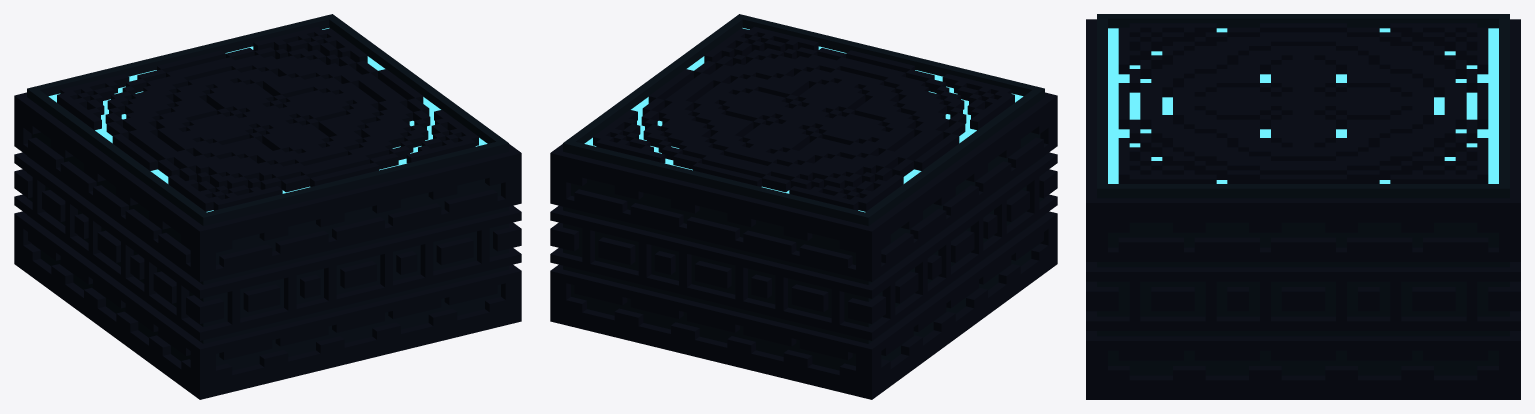
The model's file is Block_3.glb.
3 renders of one model, left to right at view 1: azimuth 30°, elevation 25°; view 2: azimuth 150°, elevation 25°; view 3: azimuth 270°, elevation 25°, orthographic. The views are drawn at different scales.
Parts seen in each view (by area): view 1: Block_3; view 2: Block_3; view 3: Block_3.
Boxes of the visible parts, bbox=[...] form: Block_3: bbox=[14, 14, 521, 399]; Block_3: bbox=[550, 14, 1057, 399]; Block_3: bbox=[1086, 14, 1520, 399].
Bounding box in the file's own units: 1 × 0.525 × 1.
